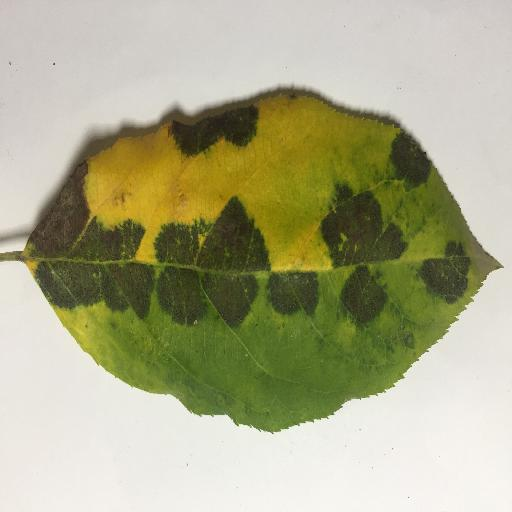Brown_Spot: (23, 157, 86, 264)
